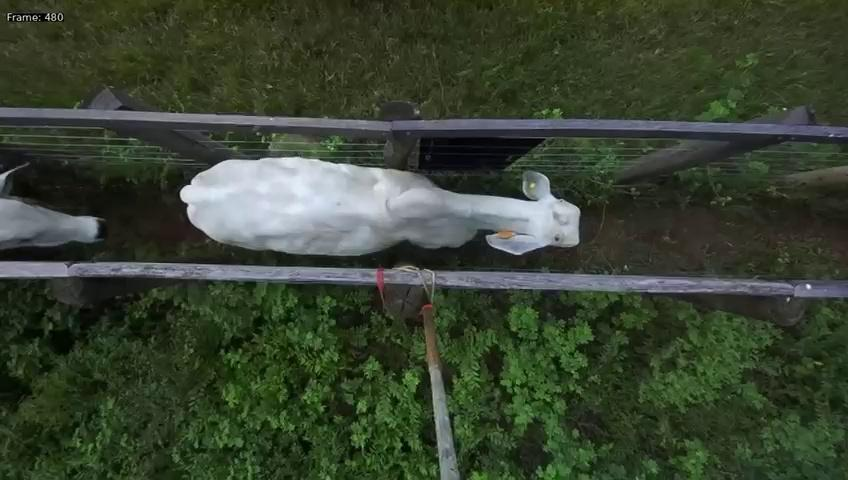cattle: (174, 129, 580, 260)
